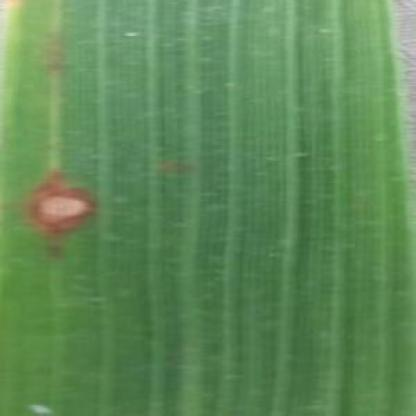Rice blast: (12, 166, 111, 259)
